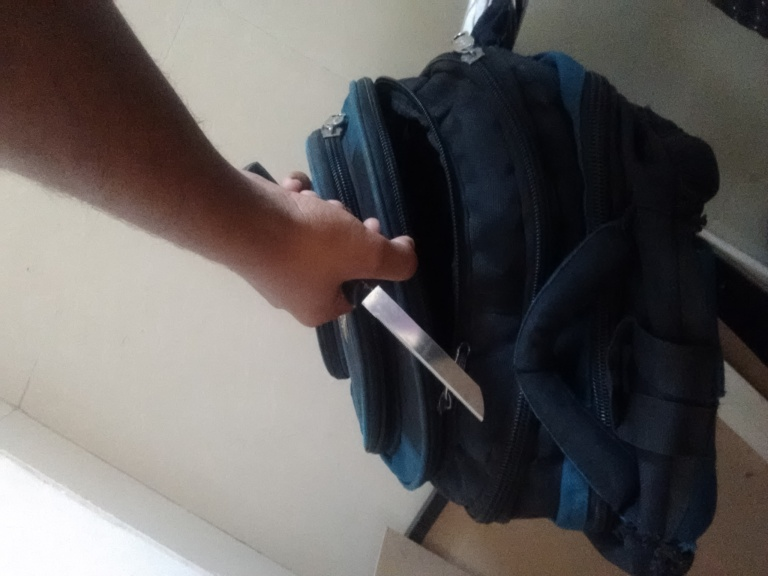knife: (361, 279, 485, 423)
